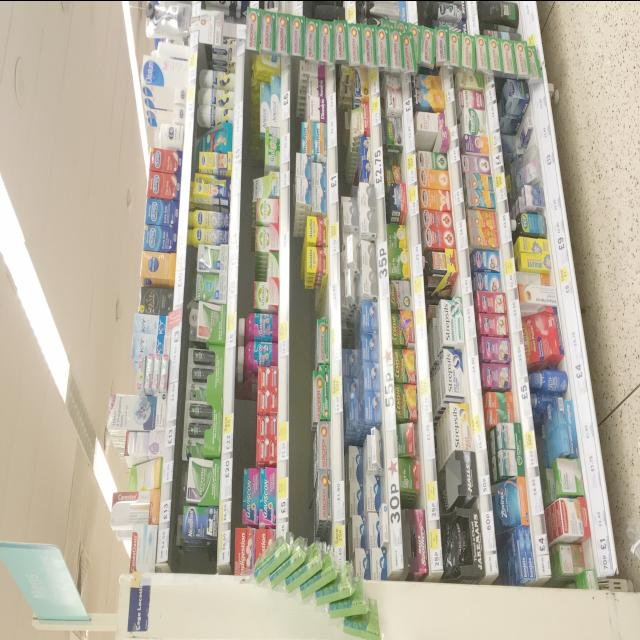empty_space: (295, 286, 325, 318)
